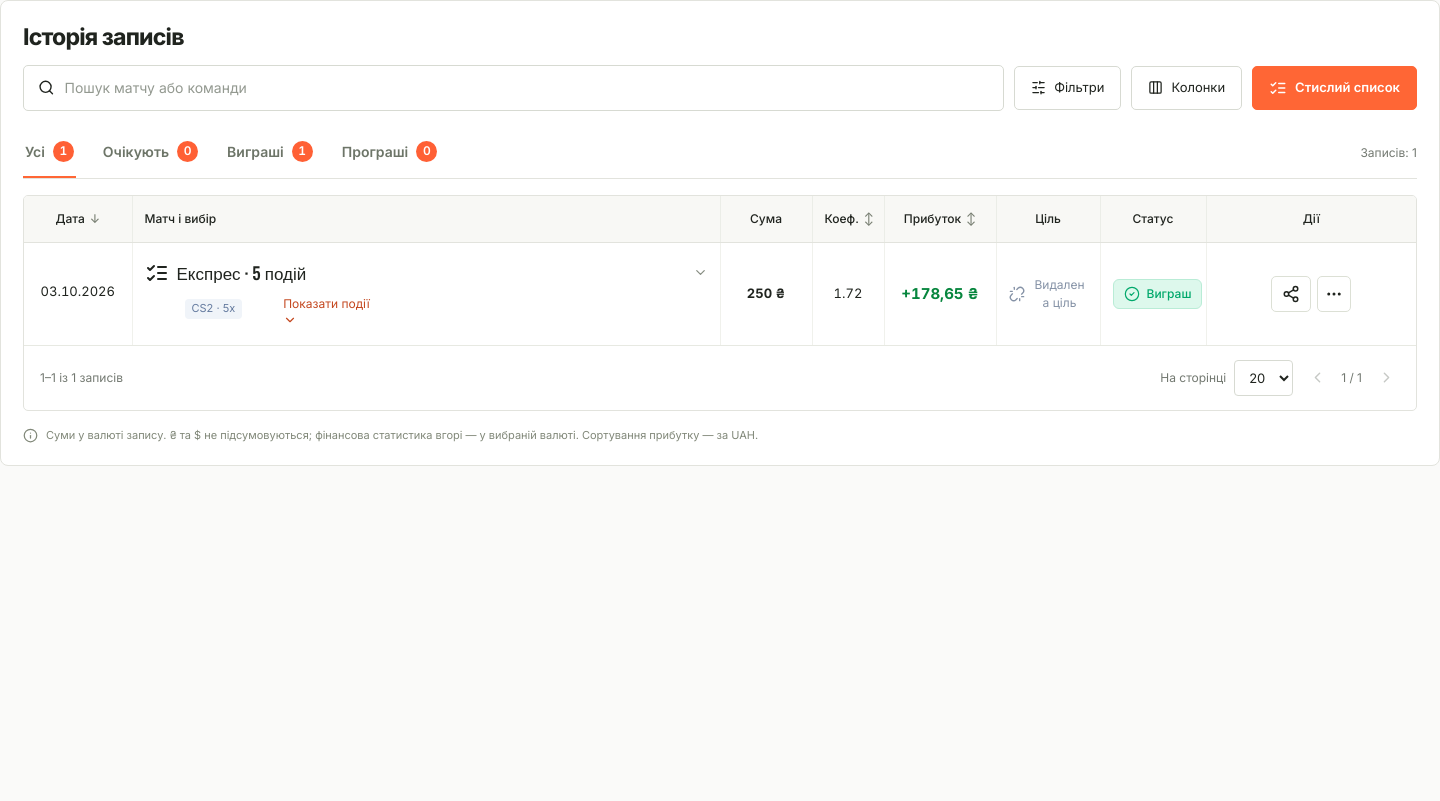
Test: full-width journal › hides columns and adjusts the expanded row span
Click the button "Експрес · 5 подій CS2 · 5x Показати події" at (212, 272), box [144,261,708,327]
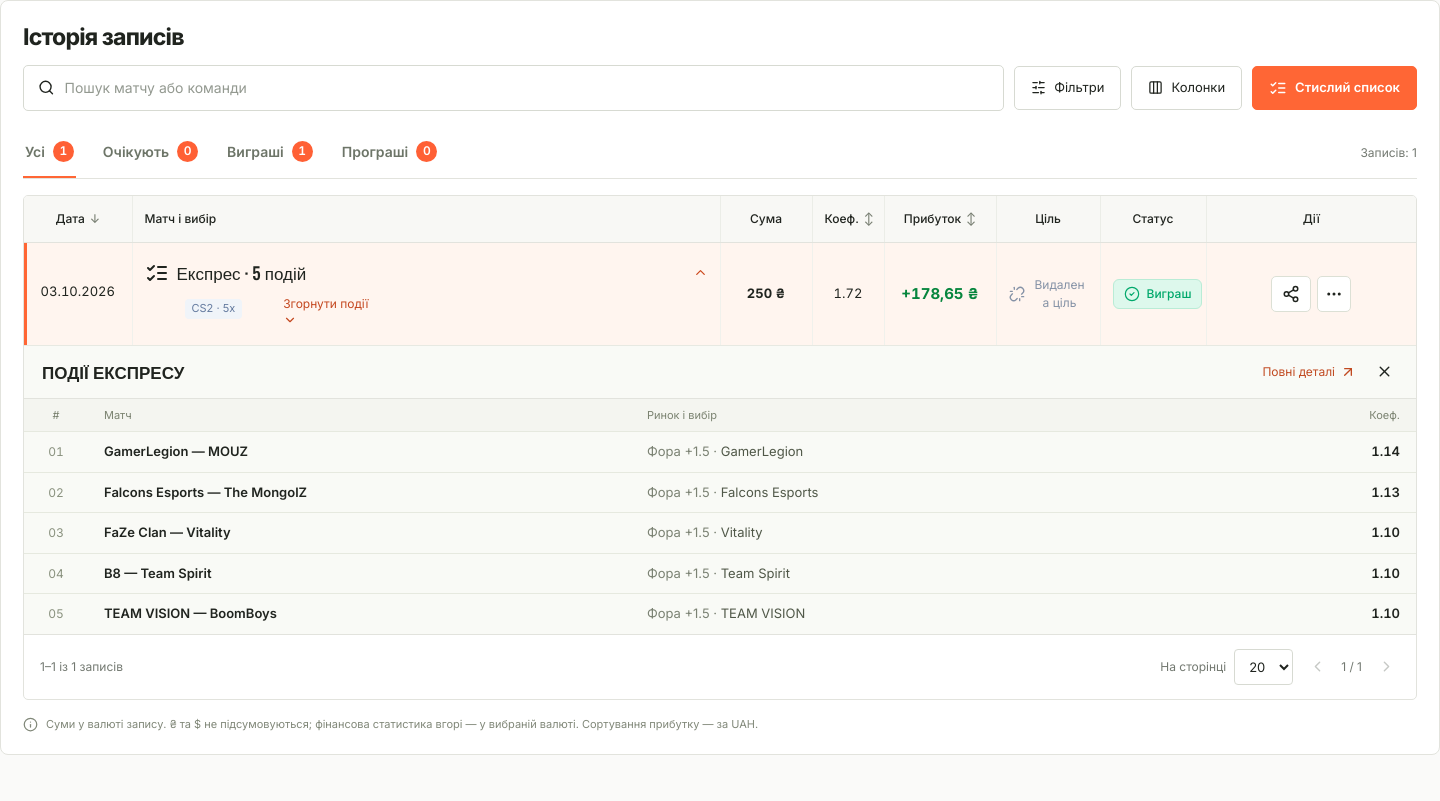
Press ArrowDown in the button "Колонки", box [1131,66,1242,110]
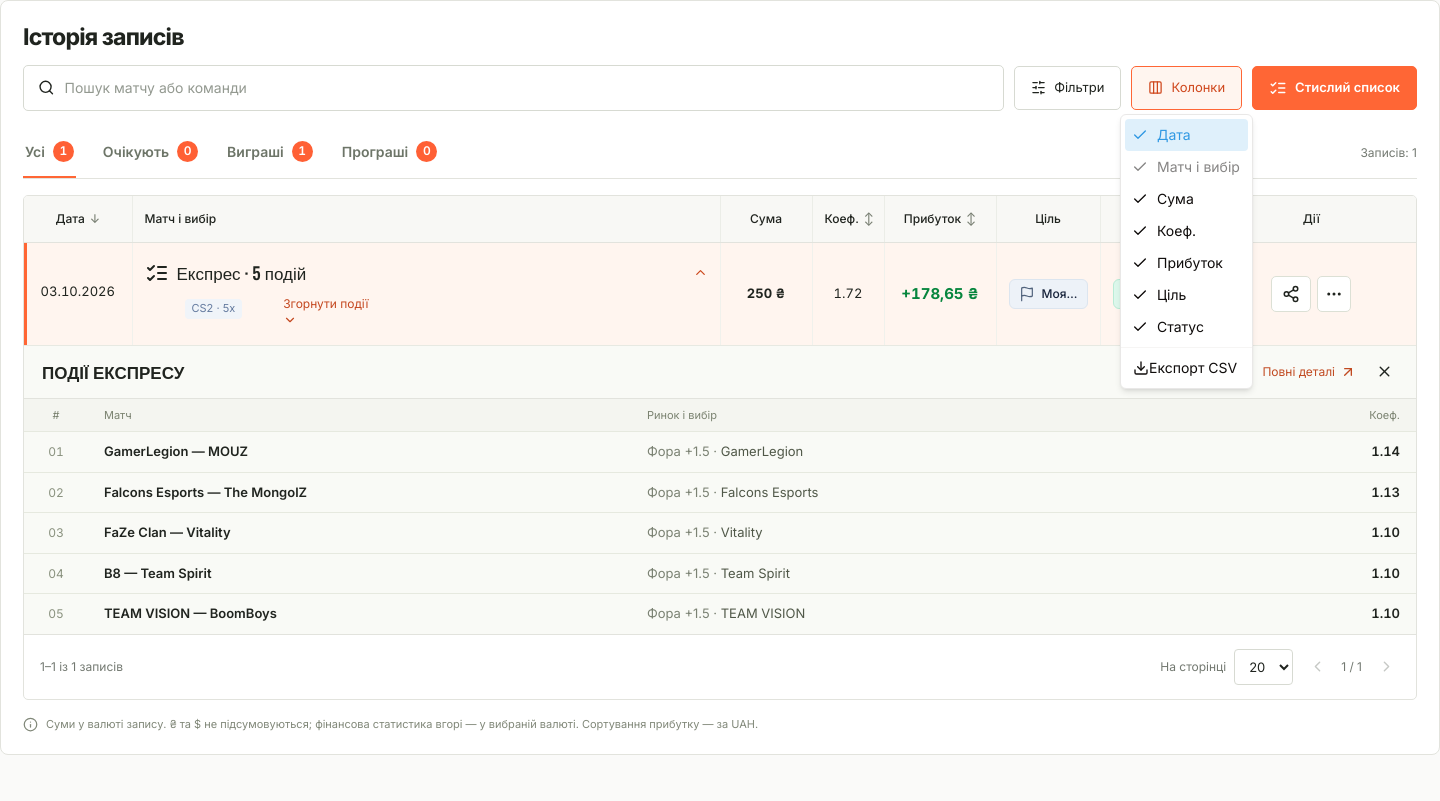
Click the menu item "Ціль" at (1159, 294), box [1132,286,1186,303]
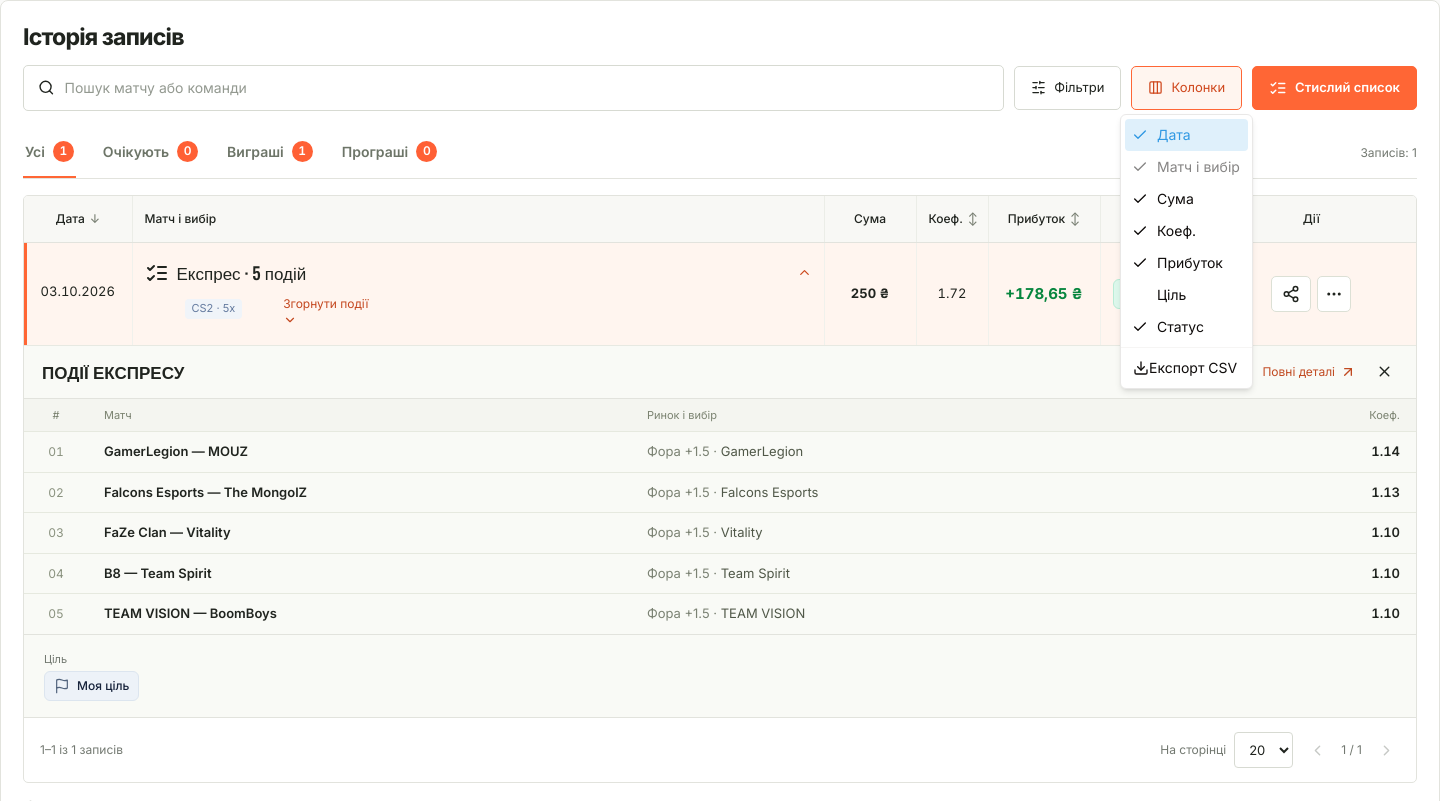
Expected: the menu item "Експорт CSV" is shown, [1133,359,1237,376]
Press Escape in the menu, box [1120,114,1253,389]
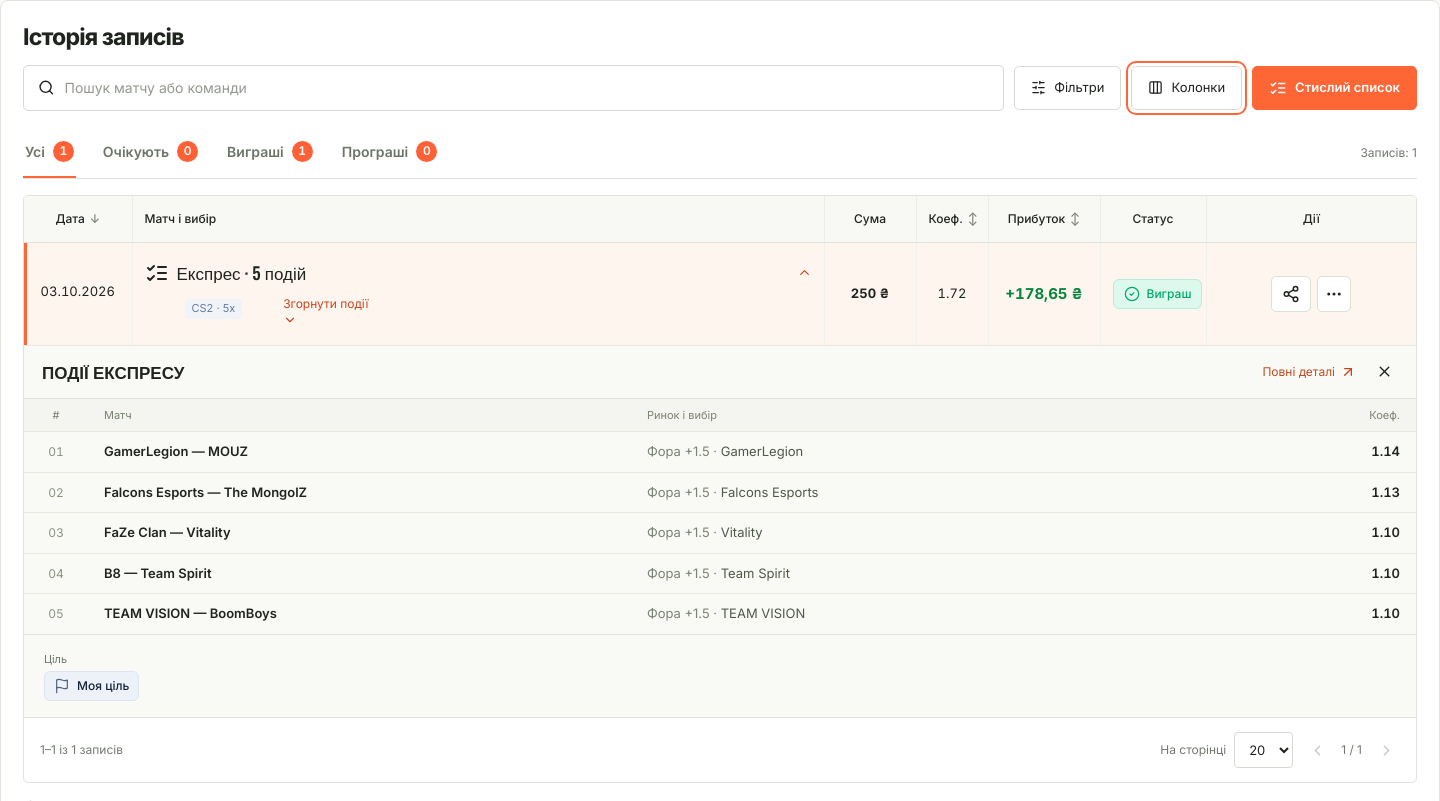
Expected: the menu is gone
